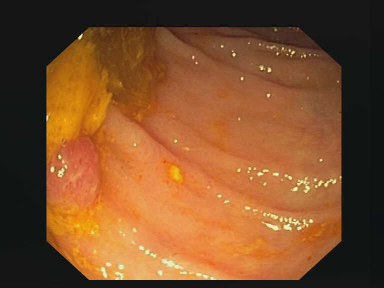polyp: (47, 133, 110, 227)
